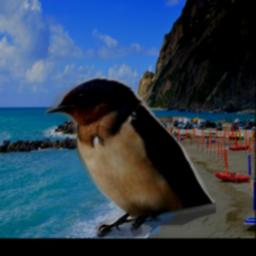Swallow: (46, 76, 217, 237)
